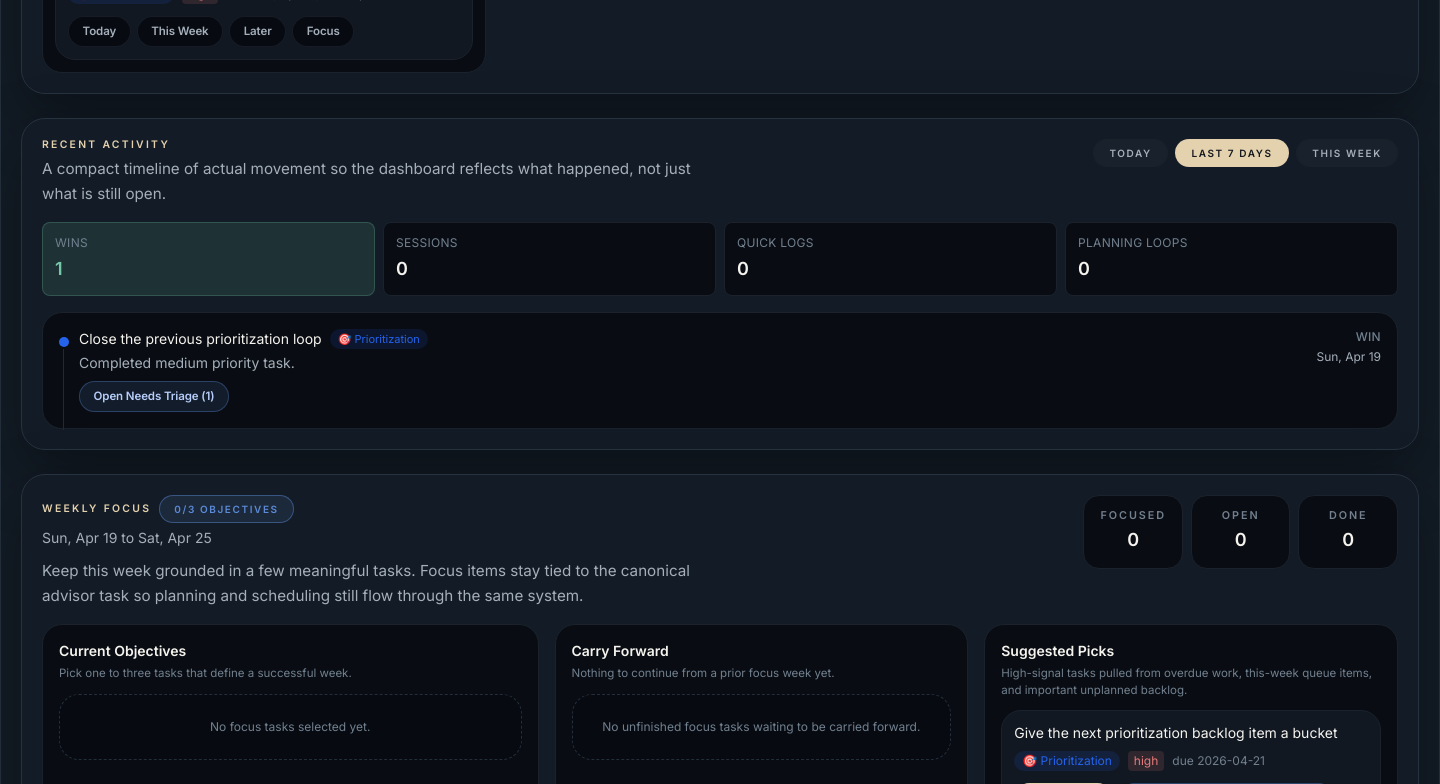
Test: TaskDashboard › opens an advisor-scoped planner lane from advisor-linked recent activity
(page scrolled)
Click the button "Open Needs Triage (1)" at [154, 397], box [79,381,229,412]
(page scrolled)
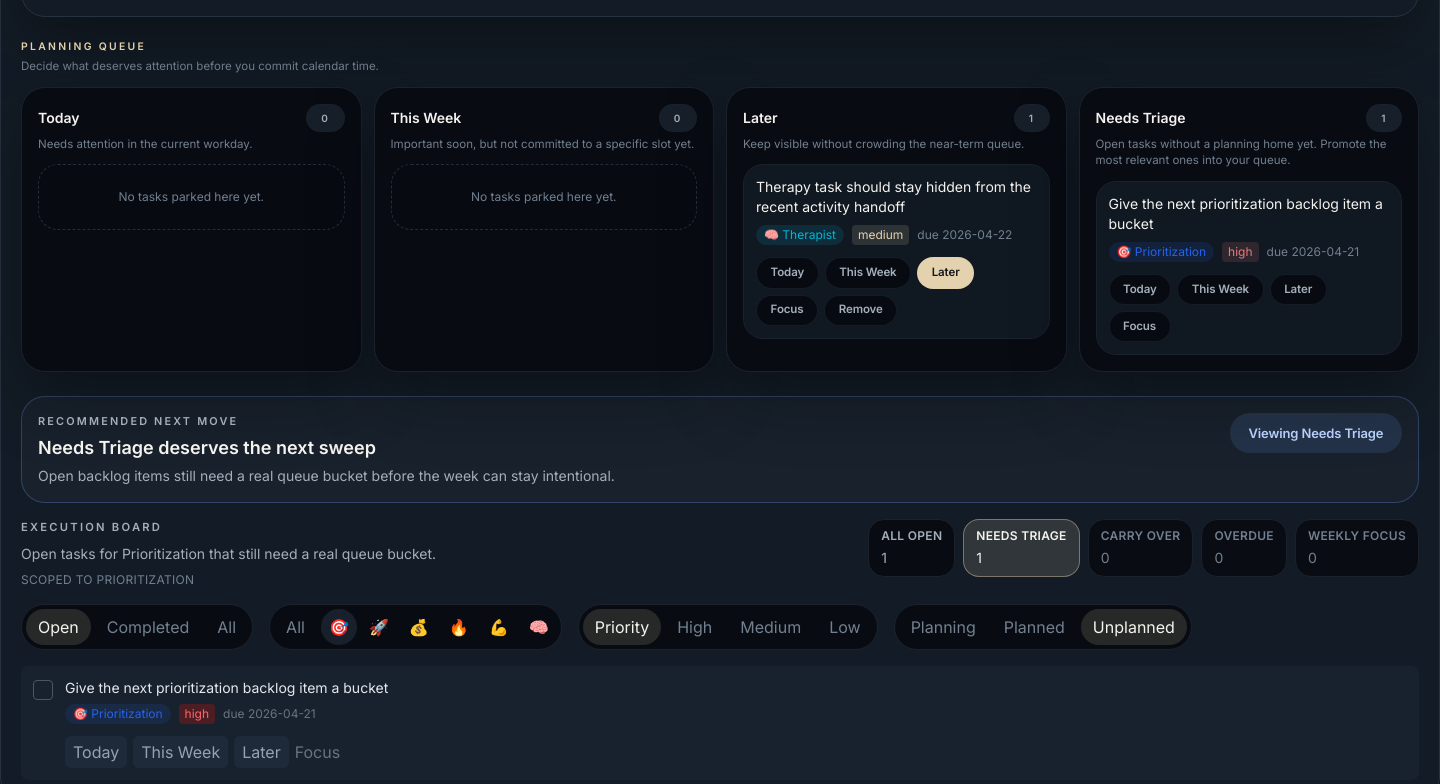
Expected: the text "Give the next prioritization backlog item a bucket" below "Scoped to" is shown, [65,678,388,696]
Expected: the text "Scoped to Prioritization" is shown, [21,572,194,586]
Expected: the button "Viewing Needs Triage" is shown, [1230,413,1402,453]
